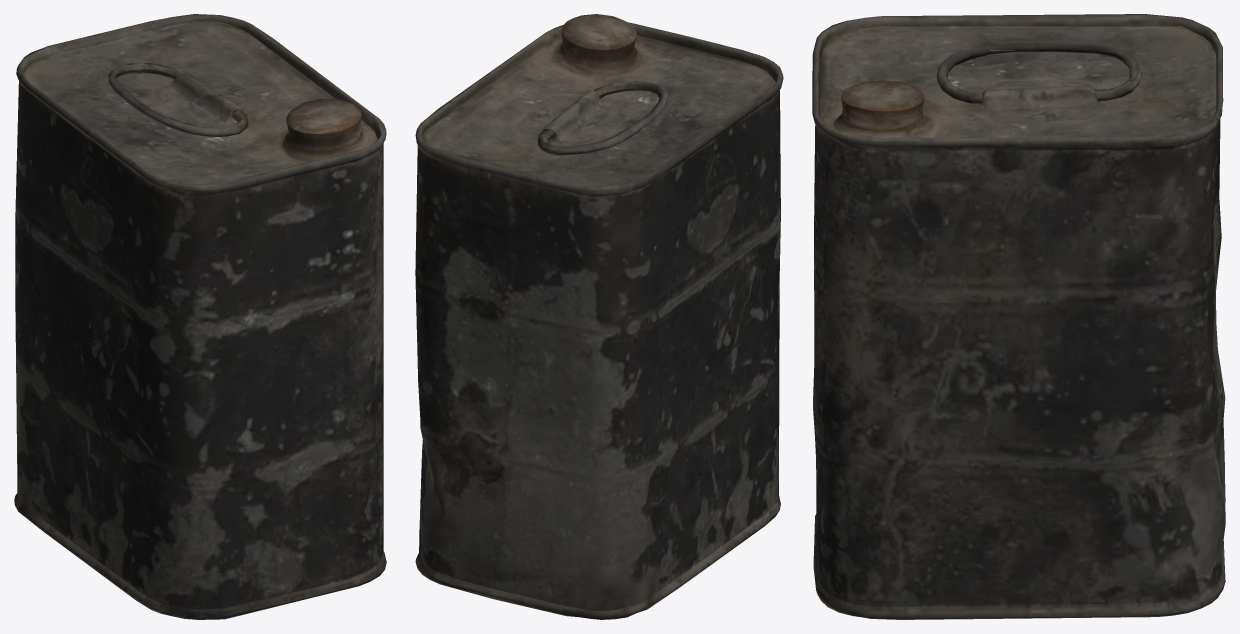
Rendered from oil_tin.glb.
3 renders of one model, left to right at view 1: azimuth 30°, elevation 25°; view 2: azimuth 150°, elevation 25°; view 3: azimuth 270°, elevation 25°, orthographic. The views are drawn at different scales.
Visible parts, largest first — view 1: oil_tin; view 2: oil_tin; view 3: oil_tin.
Part boxes in pixels (bbox=[...]): oil_tin: bbox=[14, 14, 386, 619]; oil_tin: bbox=[415, 14, 783, 619]; oil_tin: bbox=[812, 14, 1225, 619].
Size of the model in its own units: 0.1147 by 0.2052 by 0.1535.
Materials: 1 (1 with a texture image).
